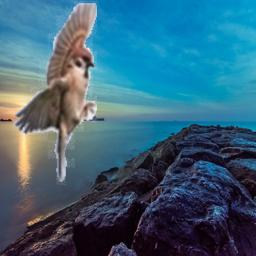Sparrow: (12, 1, 97, 185)
